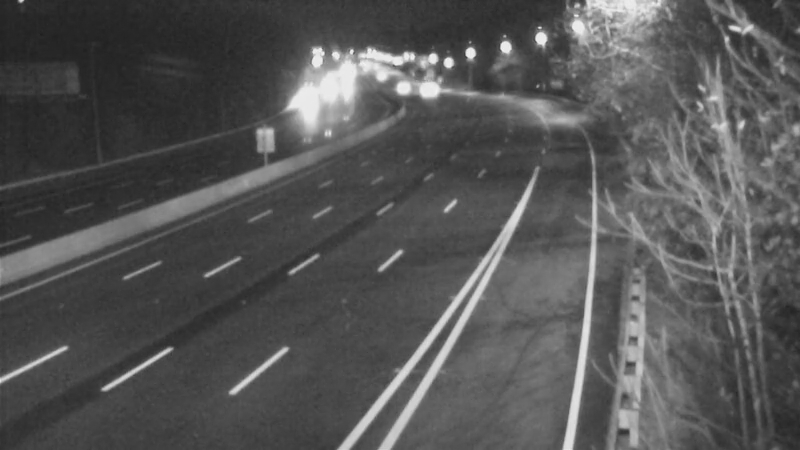vehicle: (376, 61, 426, 111), (399, 64, 449, 114)
